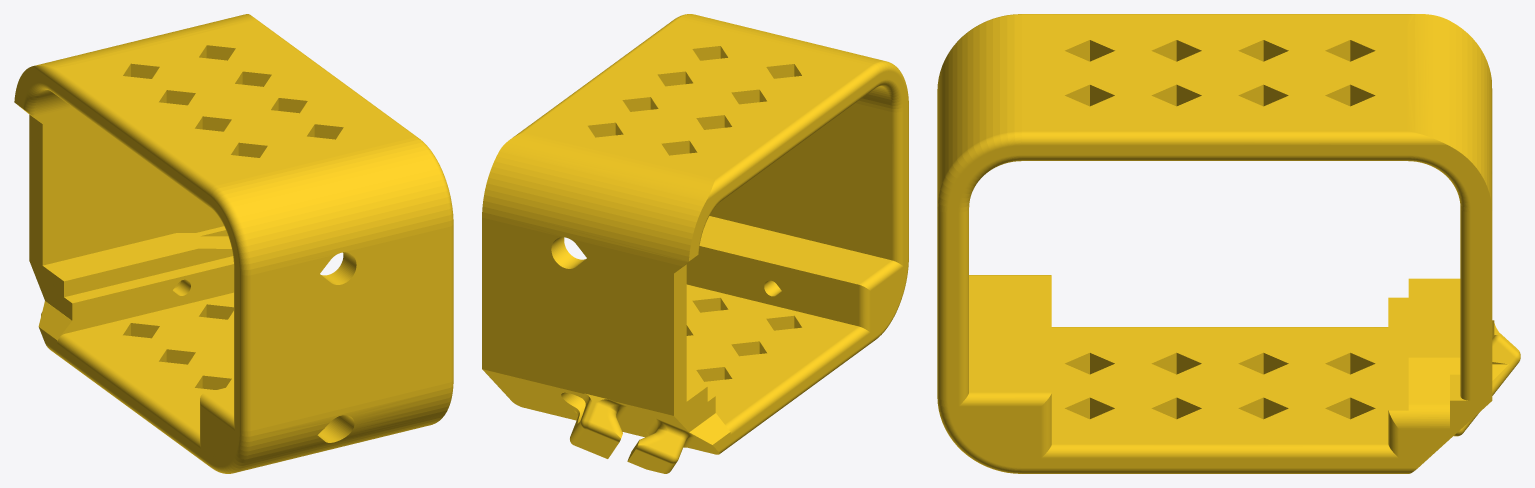
File: shoulder_visuals_motor_holder_so101_base_v1_mesh.obj
3 views of the same model, side by side, from view 1: azimuth 30°, elevation 25°; view 2: azimuth 150°, elevation 25°; view 3: azimuth 270°, elevation 25° (orthographic). The views are drawn at different scales.
Bounding box in the file's own units: 0.028 × 0.0381 × 0.0551.
